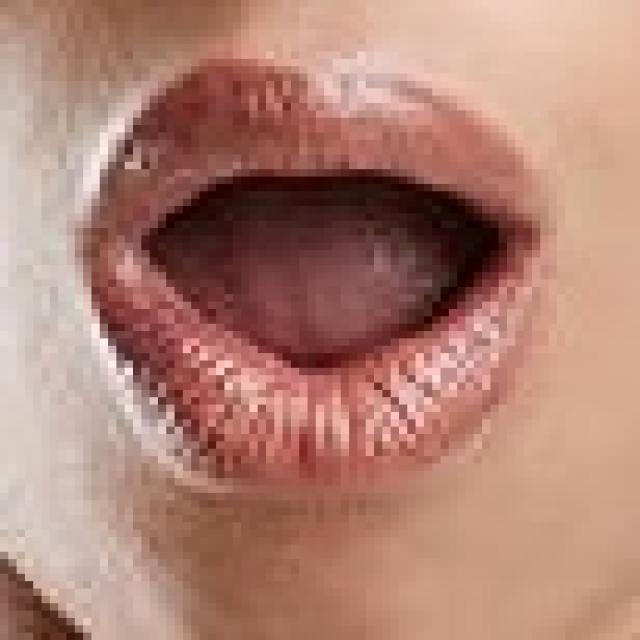open-mouth: (66, 44, 557, 493)
